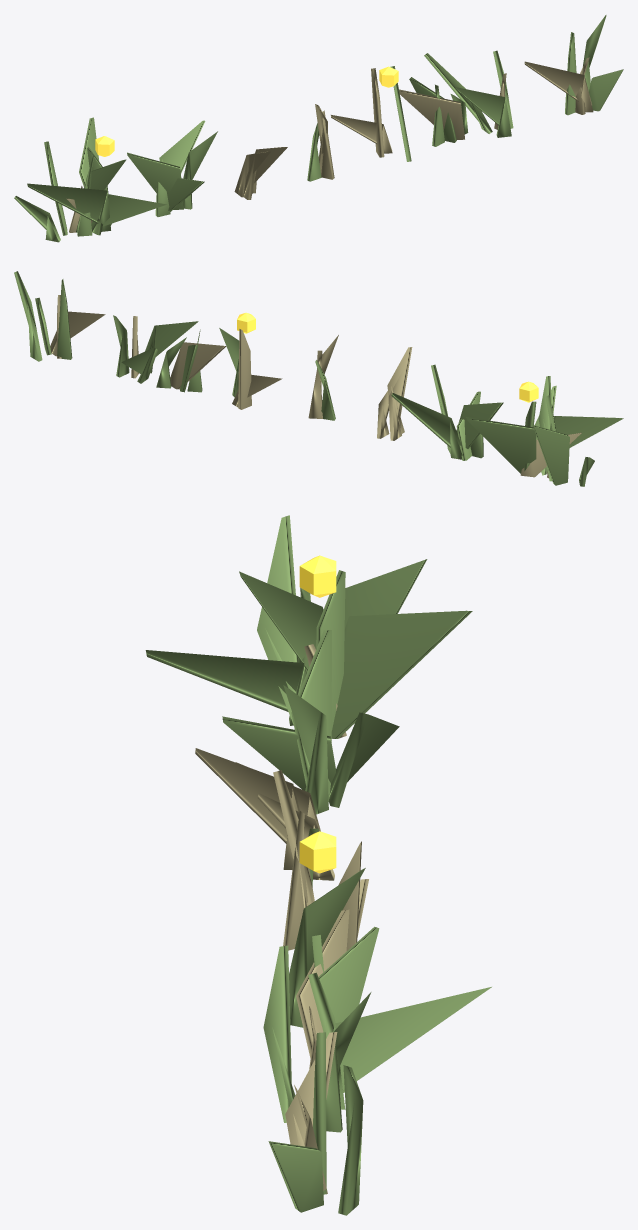
Rendered from weeds_crack.glb.
3 views of the same model, one above another, from view 1: azimuth 30°, elevation 25°; view 2: azimuth 150°, elevation 25°; view 3: azimuth 270°, elevation 25° (orthographic). The views are drawn at different scales.
Parts seen in each view (by area): view 1: weeds_crack; view 2: weeds_crack; view 3: weeds_crack.
Boxes of the visible parts, box(x1,y1,x2,y2) form: weeds_crack: box(14, 15, 623, 242); weeds_crack: box(14, 271, 623, 486); weeds_crack: box(145, 515, 491, 1215).
Bounding box in the file's own units: 2.34 × 0.3434 × 0.5933.
